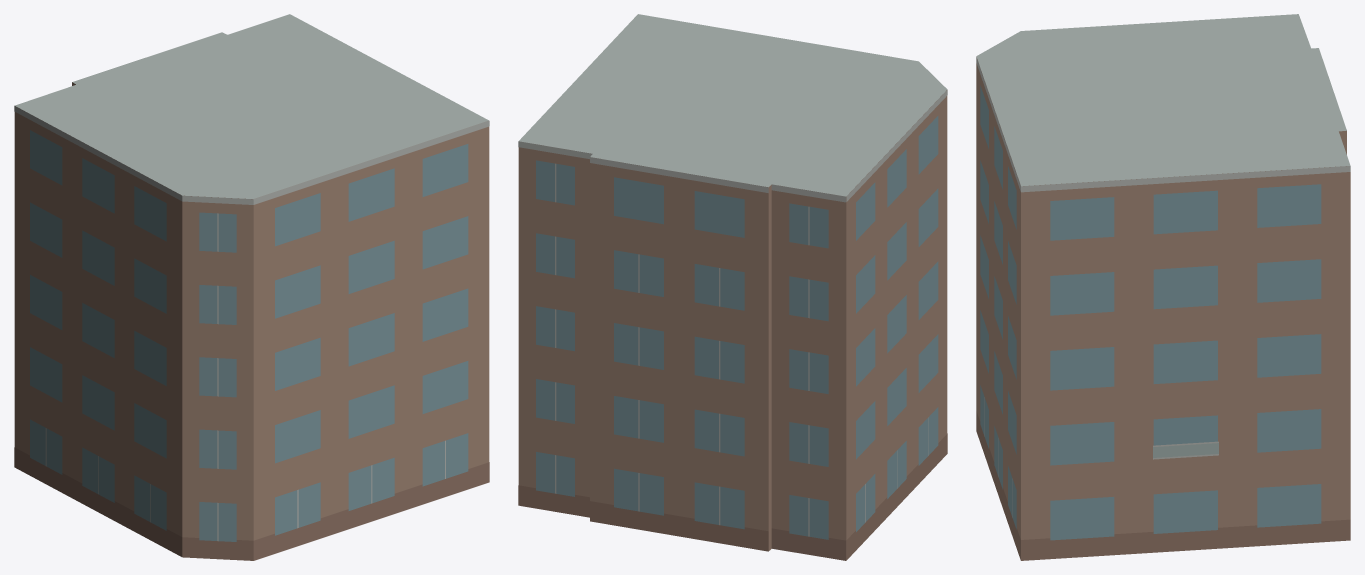
Rendered from survey-upis-33036210.glb.
3 renders of one model, left to right at view 1: azimuth 30°, elevation 25°; view 2: azimuth 150°, elevation 25°; view 3: azimuth 270°, elevation 25°, orthographic. The views are drawn at different scales.
Parts seen in each view (by area): view 1: survey-upis-33036210.tmp; view 2: survey-upis-33036210.tmp; view 3: survey-upis-33036210.tmp.
Boxes of the visible parts, x1,y1,x2,y2 form: survey-upis-33036210.tmp: [14, 14, 489, 560]; survey-upis-33036210.tmp: [518, 14, 947, 560]; survey-upis-33036210.tmp: [976, 14, 1350, 560].
Size of the model in its own units: 14.8 by 15 by 13.59.
